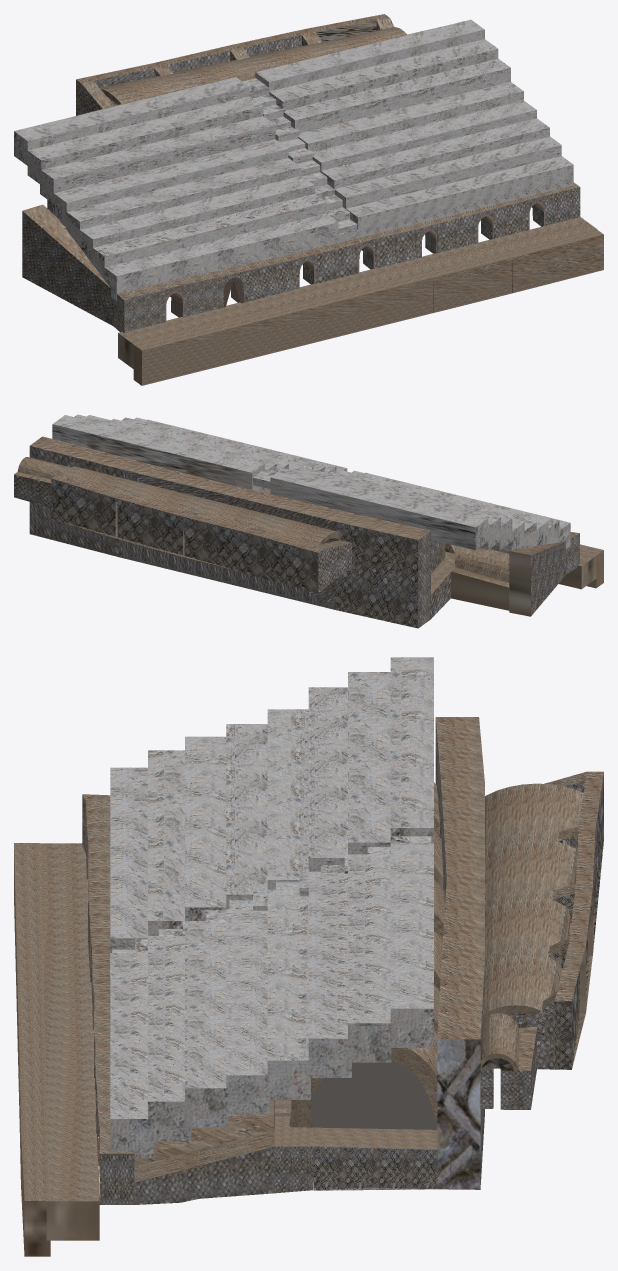
File: dipl_3.fbx
3 views of the same model, one above another, from view 1: azimuth 30°, elevation 25°; view 2: azimuth 150°, elevation 25°; view 3: azimuth 270°, elevation 25° (orthographic). The views are drawn at different scales.
Visible parts, largest first — view 1: a, c; view 2: c, a, b; view 3: a, c, b.
Boxes of the visible parts, x1=… form: a: x1=14, y1=19, x2=573, y2=300; c: x1=22, y1=14, x2=603, y2=385; c: x1=14, y1=436, x2=603, y2=628; a: x1=52, y1=414, x2=570, y2=553; b: x1=259, y1=488, x2=509, y2=582; a: x1=110, y1=657, x2=433, y2=1158; c: x1=14, y1=717, x2=603, y2=1256; b: x1=134, y1=782, x2=444, y2=1165.
Bounding box in the file's own units: 4147 × 2725 × 1253.
Materials: 6 (6 with a texture image).
